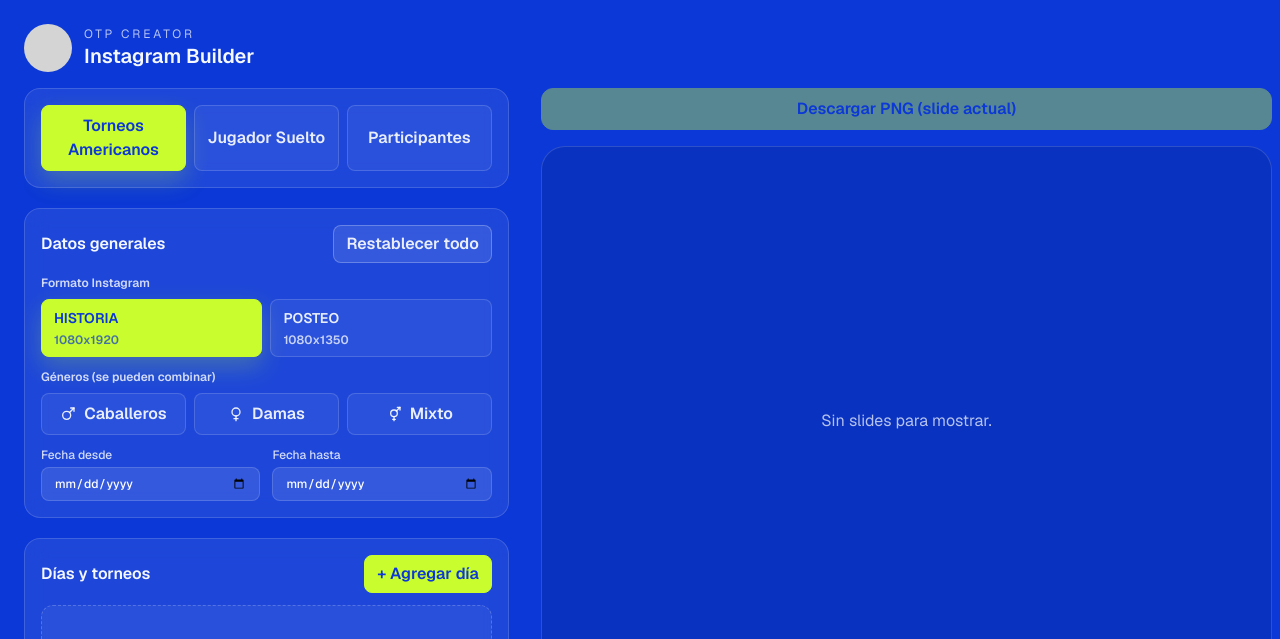
Test: PostBuilder › en Participantes agrega tarjetas y habilita ZIP con 2 o más slides
The image size is (1280, 639).
Click the button "Participantes" at (419,138), box [347,105,492,171]
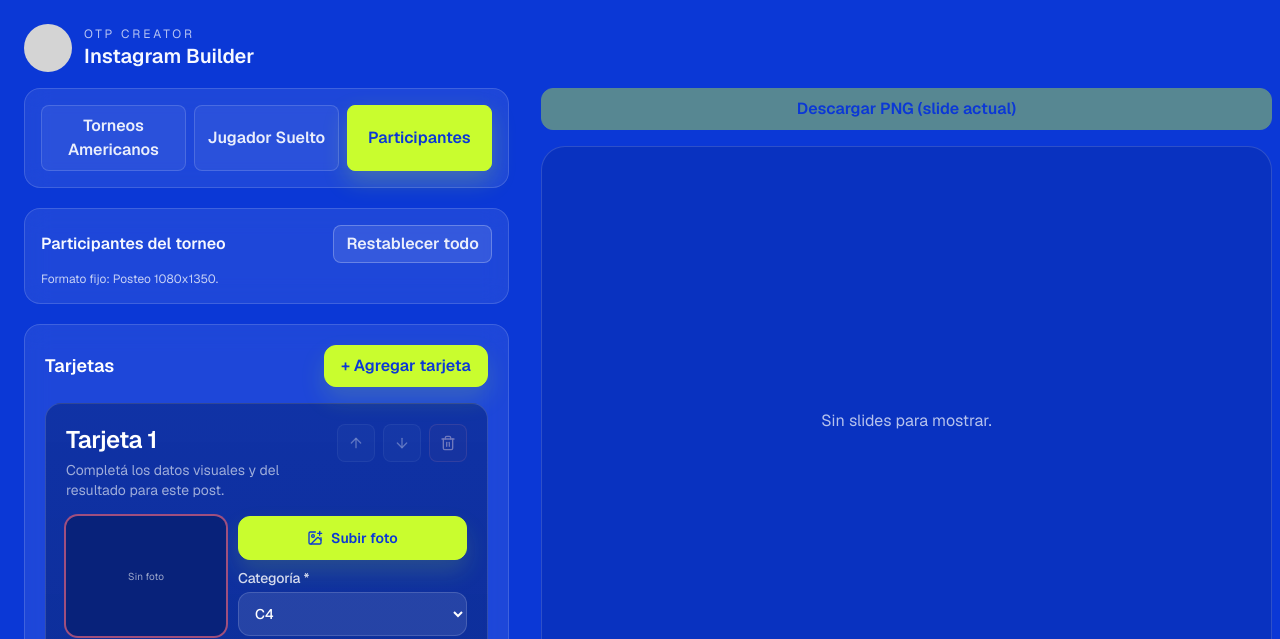
Click the button "+ Agregar tarjeta" at (406,366), box [324,345,488,387]
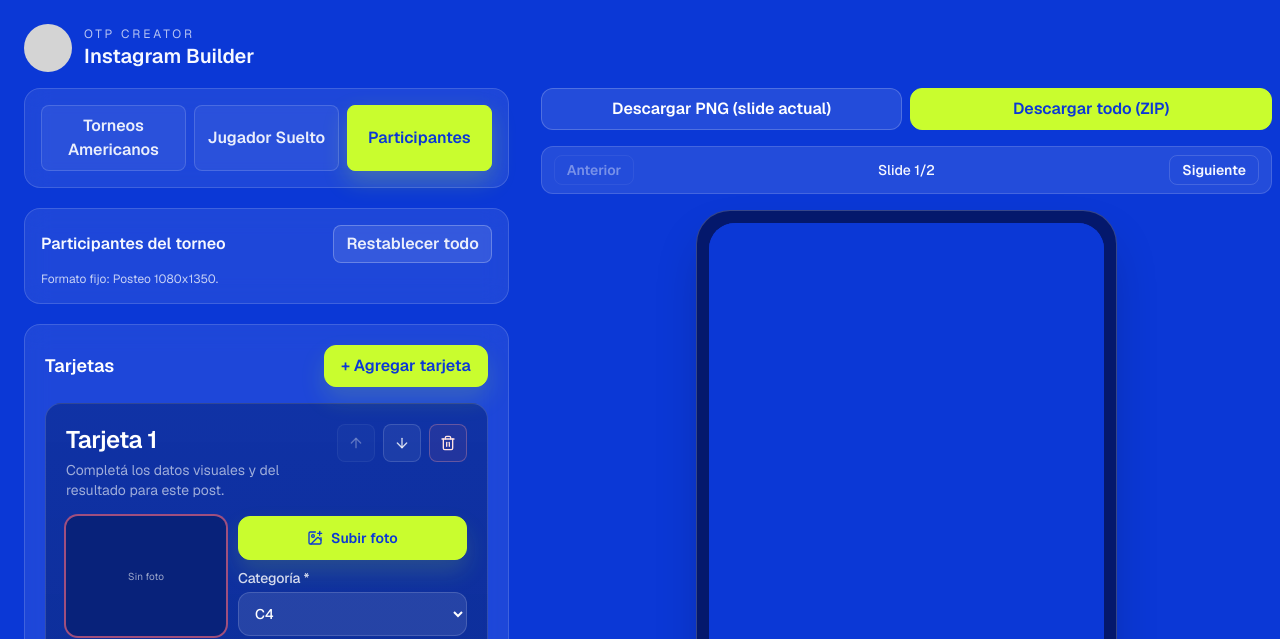
Result: the button "Descargar todo (ZIP)" is shown at [910,88,1272,130]
